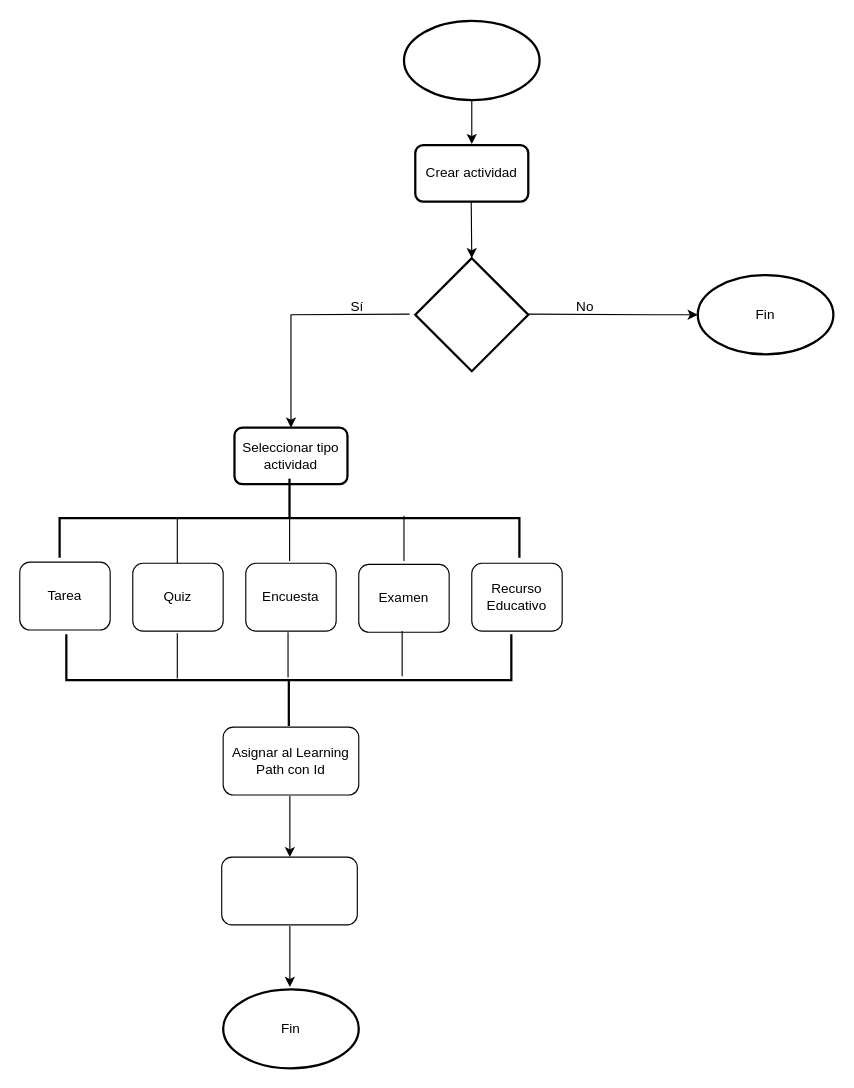
The diagram is 854 pixels wide and 1088 high, and some of its shapes have lost their labels. The centre of each missing label's shape, as x and y in pixels:
Asignar al Learning Path: (x=289, y=890)
Inicio: (x=471, y=60)
¿Es profesor?: (x=471, y=314)
